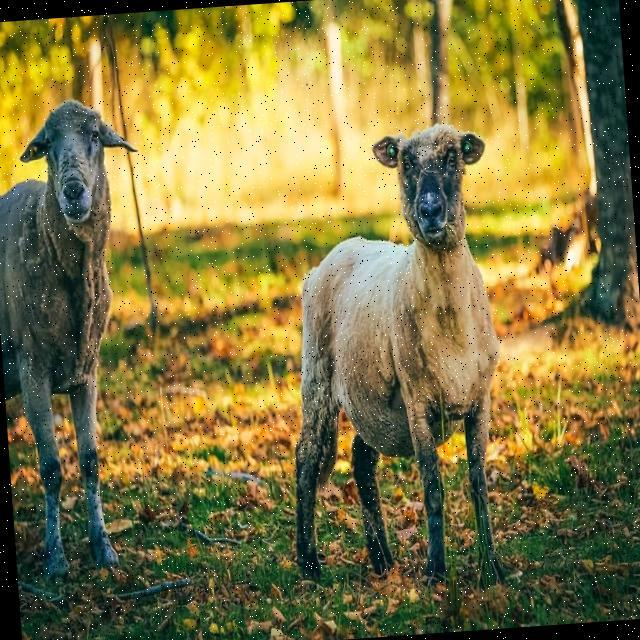sheep: (295, 121, 498, 580), (0, 98, 129, 572)
